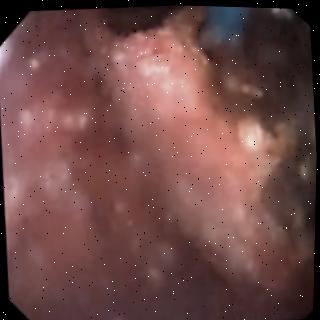fiber: (210, 5, 246, 38)
stone: (99, 4, 313, 292)
